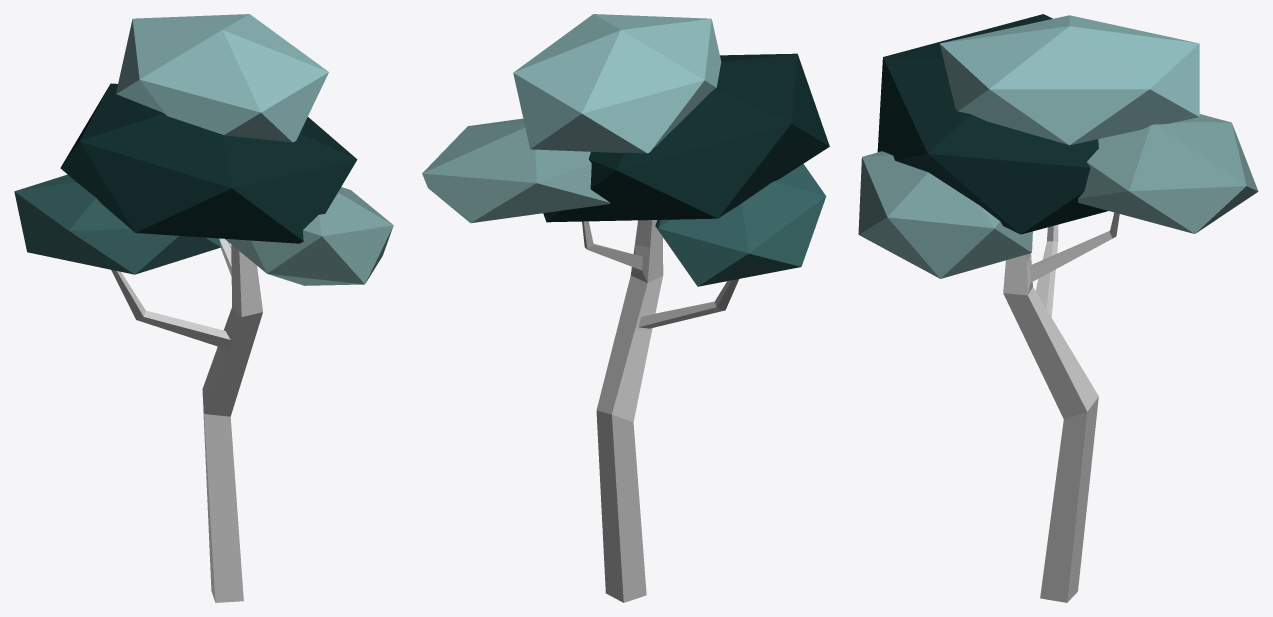
File: TreeAutumn10_Alt4.fbx
3 views of the same model, side by side, from view 1: azimuth 30°, elevation 25°; view 2: azimuth 150°, elevation 25°; view 3: azimuth 270°, elevation 25° (orthographic).
Visible parts, largest first — view 1: TreeAutumn10_Alt4; view 2: TreeAutumn10_Alt4; view 3: TreeAutumn10_Alt4.
Part boxes in pixels (x1,y1,x2,y2): TreeAutumn10_Alt4: (14,14,393,602); TreeAutumn10_Alt4: (422,14,829,602); TreeAutumn10_Alt4: (858,14,1258,602).
Bounding box in the file's own units: 1 × 1.7 × 1.09.
